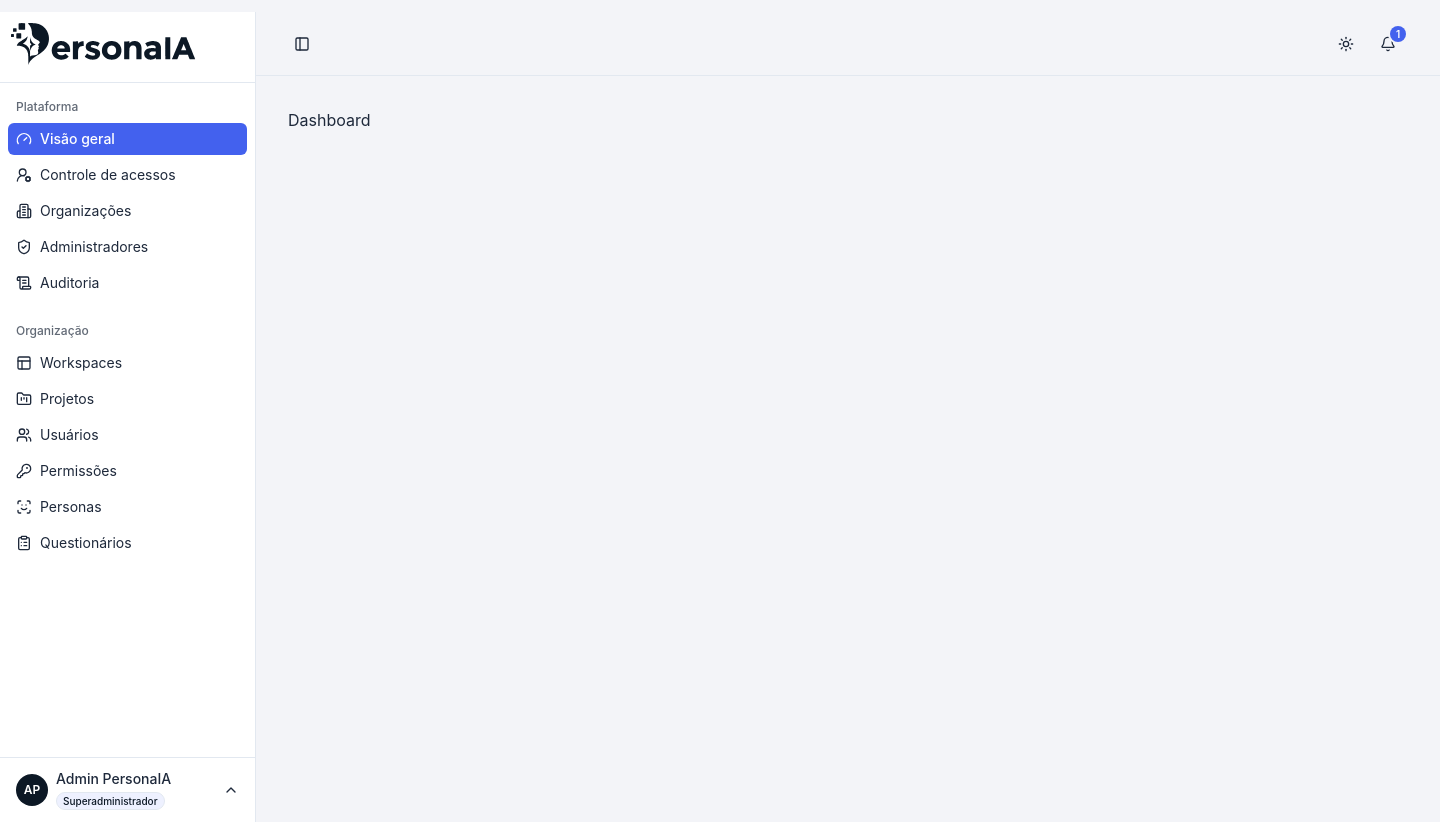
Test case: AppShell › shows a persistent unread access request for the responsible client
Click the button named "Notificações, 1 não lidas" at (1388, 44), box [1368,24,1408,64]
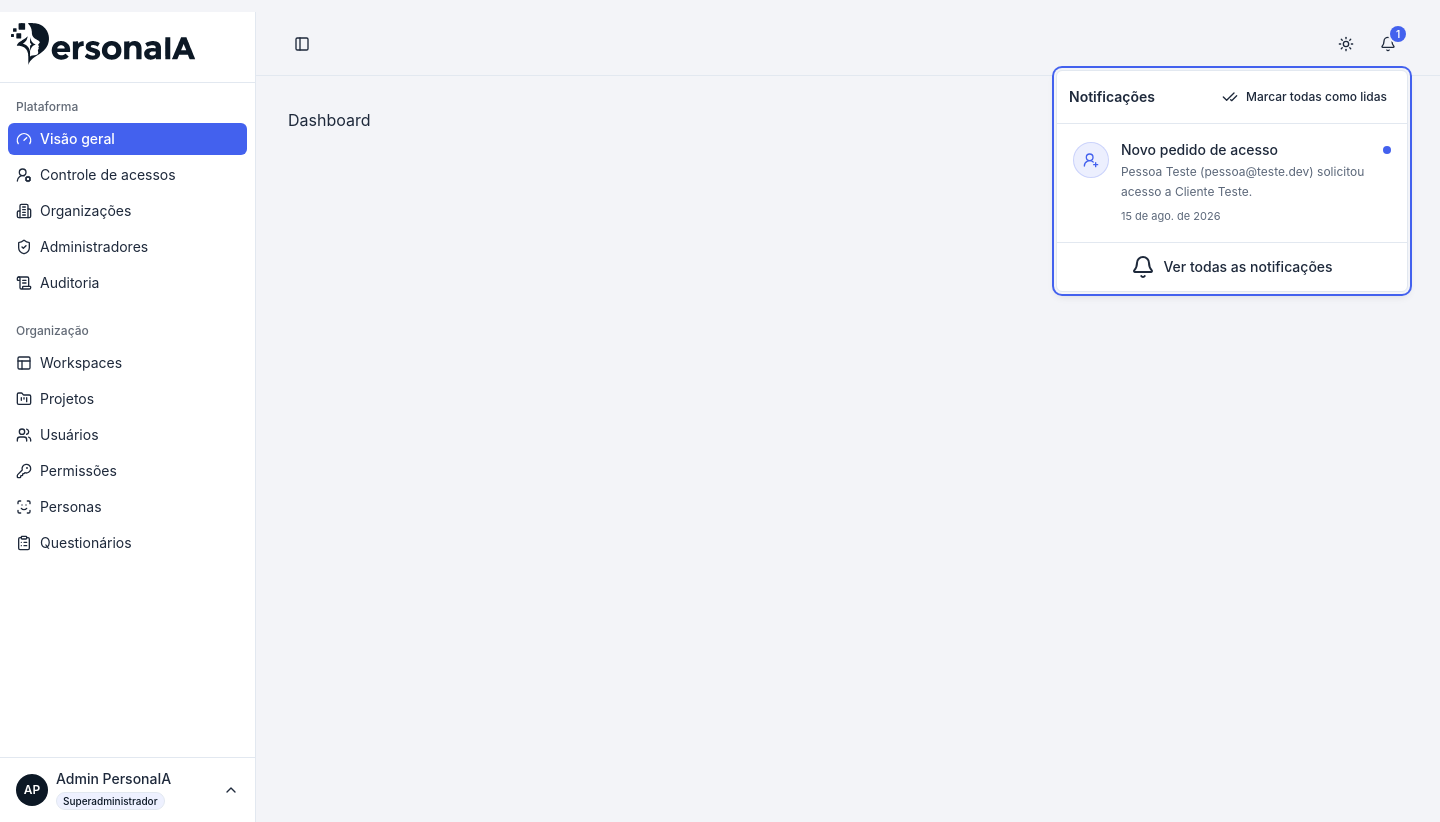
Expected: the text "Novo pedido de acesso" is shown, [1121,140,1278,160]
Expected: the text "Pessoa Teste (pessoa@teste.dev) solicitou acesso a Cliente Teste." is shown, [1121,162,1391,202]
